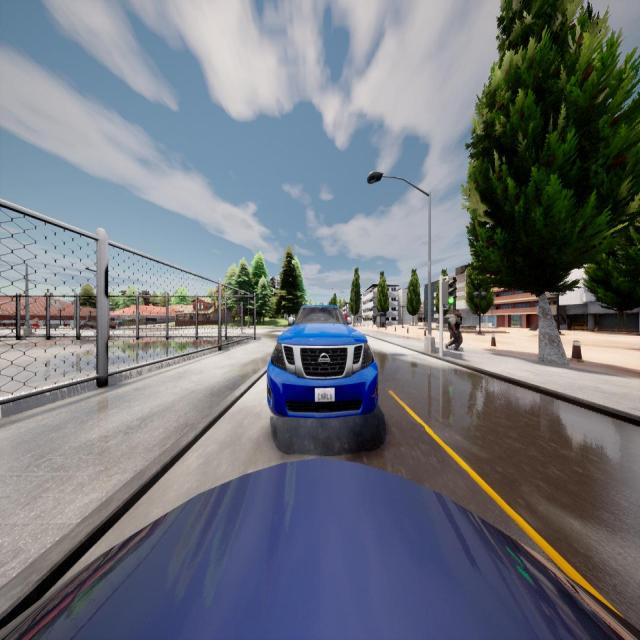Pedestrian: (448, 310, 462, 353), (32, 315, 40, 331)
Vehicle: (1, 456, 640, 640), (266, 306, 378, 418), (80, 319, 98, 329)
traffic_light: (443, 279, 455, 303), (238, 306, 241, 315)
